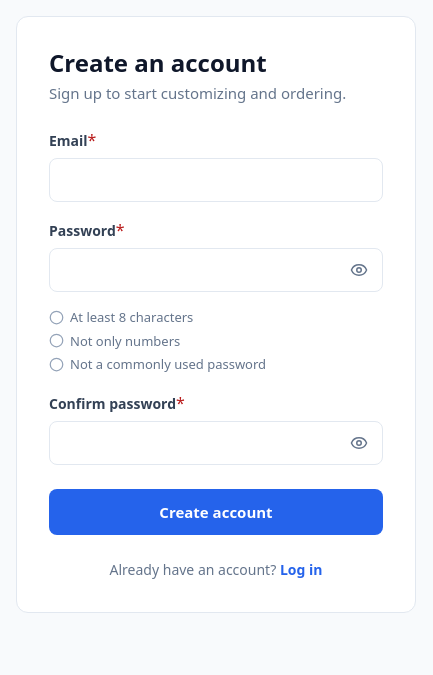
Test: RegisterPage › rejects a common password
The image size is (433, 675).
Type "shopper@example.test" into the field labelled "Email".
click(216, 180); type("shopper@example.test")  # box left=49, top=158, right=383, bottom=202
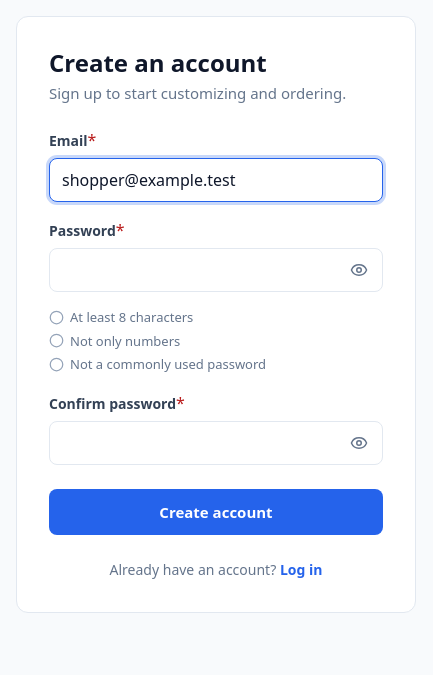
Type "password123" into the password field labelled "Password".
click(216, 270); type("password123")  # box left=49, top=248, right=383, bottom=292
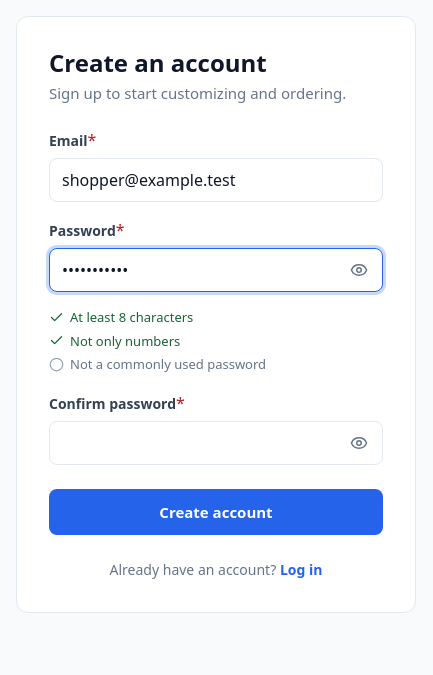
Type "password123" into the password field labelled "Confirm password".
click(216, 443); type("password123")  # box left=49, top=421, right=383, bottom=465
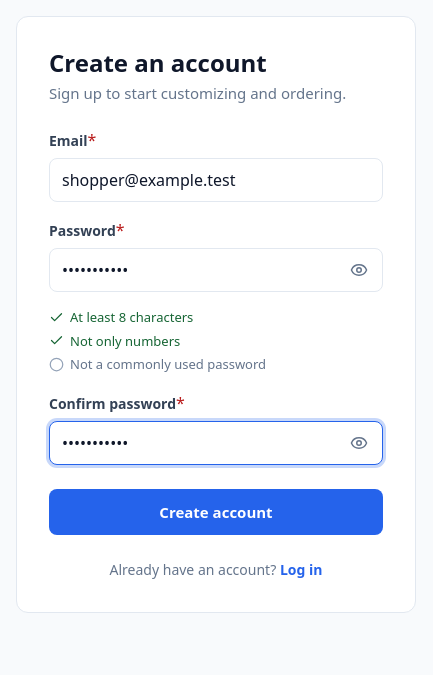
Click the button "Create account".
click(216, 512)  # box left=49, top=489, right=383, bottom=535
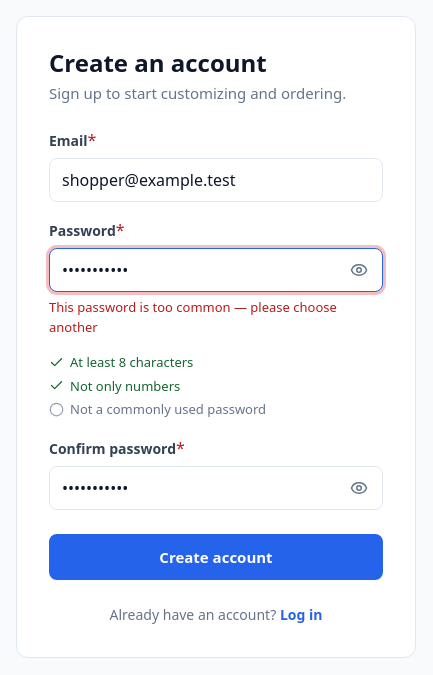
Expected: the text "This password is too common — please choose another" is shown, left=49, top=298, right=383, bottom=337
